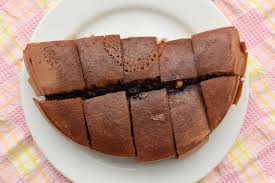Martabak manis: (80, 89, 140, 159), (22, 39, 88, 97), (131, 86, 174, 164), (169, 84, 210, 163), (32, 98, 94, 150), (72, 33, 126, 91), (191, 25, 249, 76), (200, 70, 244, 134), (115, 36, 161, 90), (156, 38, 199, 86), (19, 65, 22, 67)
